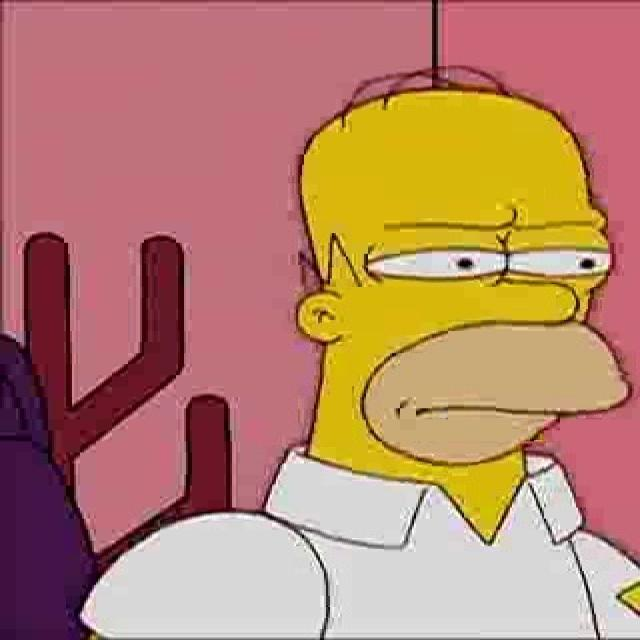Homer Simpson: (295, 63, 637, 494)
